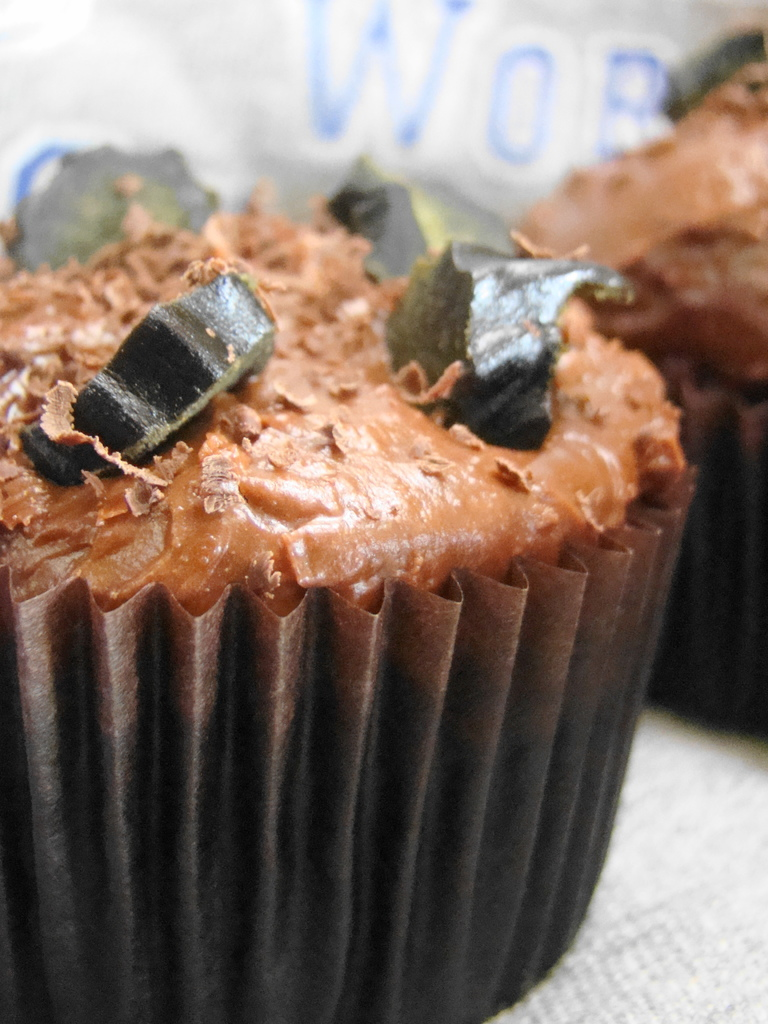cake: (4, 211, 698, 1020)
